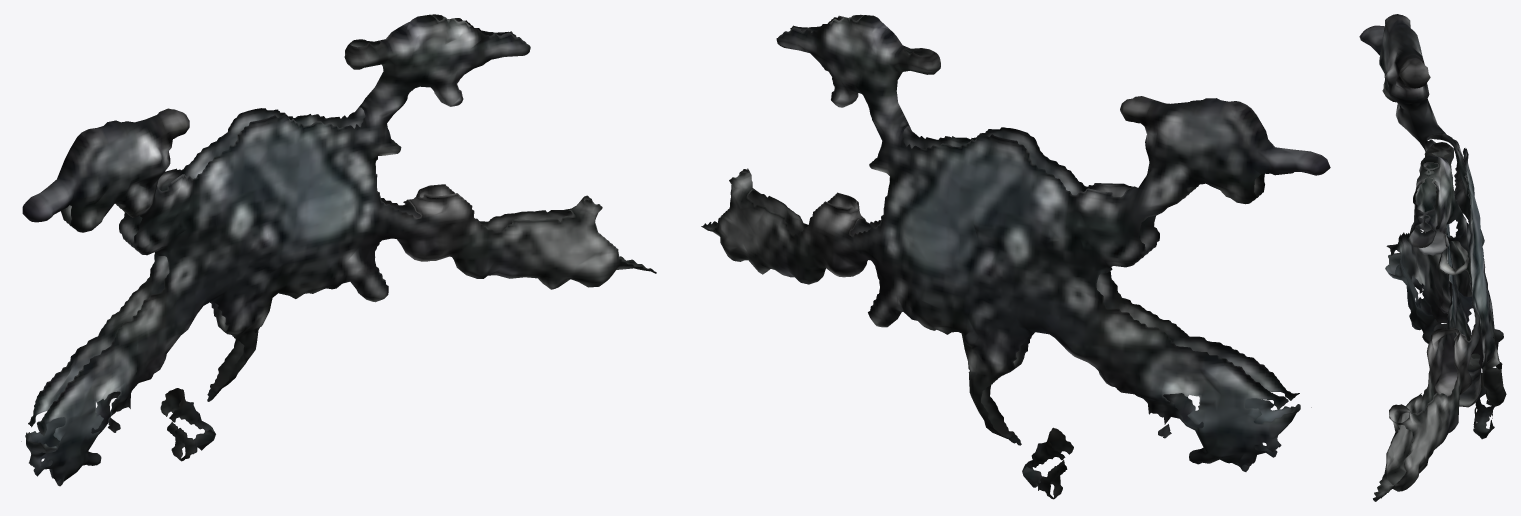
Rendered from droneswarm.glb.
3 views of the same model, side by side, from view 1: azimuth 30°, elevation 25°; view 2: azimuth 150°, elevation 25°; view 3: azimuth 270°, elevation 25° (orthographic). The views are drawn at different scales.
Visible parts, largest first — view 1: geometry_0; view 2: geometry_0; view 3: geometry_0.
Part boxes in pixels (box(x1,y1,x2,y2)): geometry_0: box(21, 14, 656, 486); geometry_0: box(701, 14, 1330, 499); geometry_0: box(1359, 14, 1506, 501).
Bounding box in the file's own units: 1.03 × 0.6372 × 0.2263.
Materials: 1 (1 with a texture image).
